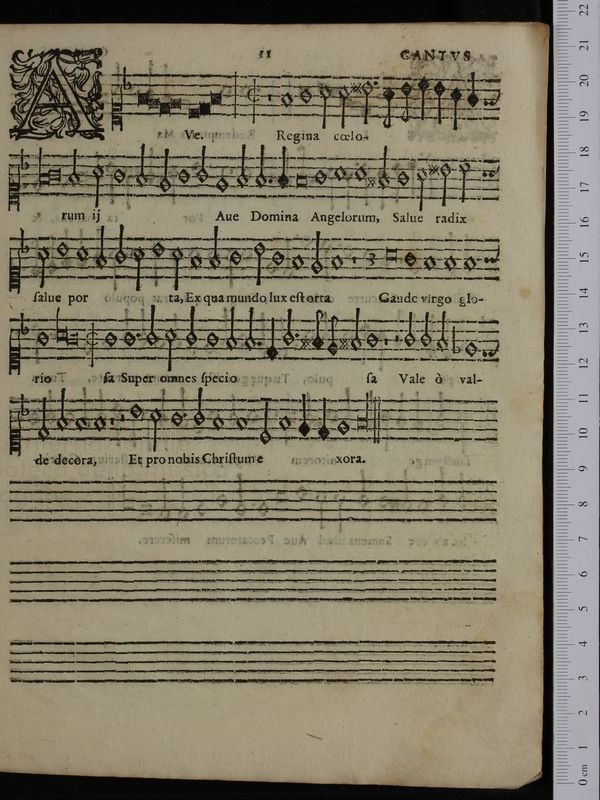breve_8: (284, 166, 312, 196)
c clef_11: (3, 169, 23, 215)
custos_6: (472, 153, 500, 181)
flat_5: (16, 143, 31, 174)
l1semibreve_8: (33, 146, 52, 193)
l2semibreve_7: (48, 163, 62, 186)
minim_4: (456, 154, 472, 205)
minim_5: (437, 157, 452, 210)
minim_6: (88, 157, 104, 210), (413, 164, 428, 214)
minim_7: (194, 140, 210, 189)
minim_8: (251, 140, 268, 195), (234, 141, 250, 193), (376, 141, 391, 195), (133, 141, 149, 191), (68, 147, 81, 191)
minim_9: (156, 143, 172, 197)
point: (193, 155, 203, 175), (263, 172, 275, 188)
semibreve_6: (350, 158, 369, 188), (331, 157, 348, 186)
semibreve_7: (110, 160, 129, 190), (174, 160, 192, 191), (393, 164, 412, 192), (312, 162, 329, 191)
semibreve_9: (213, 168, 232, 199)
semiminim_8: (274, 141, 290, 194)
sharp: (423, 156, 442, 179), (362, 173, 382, 193)
